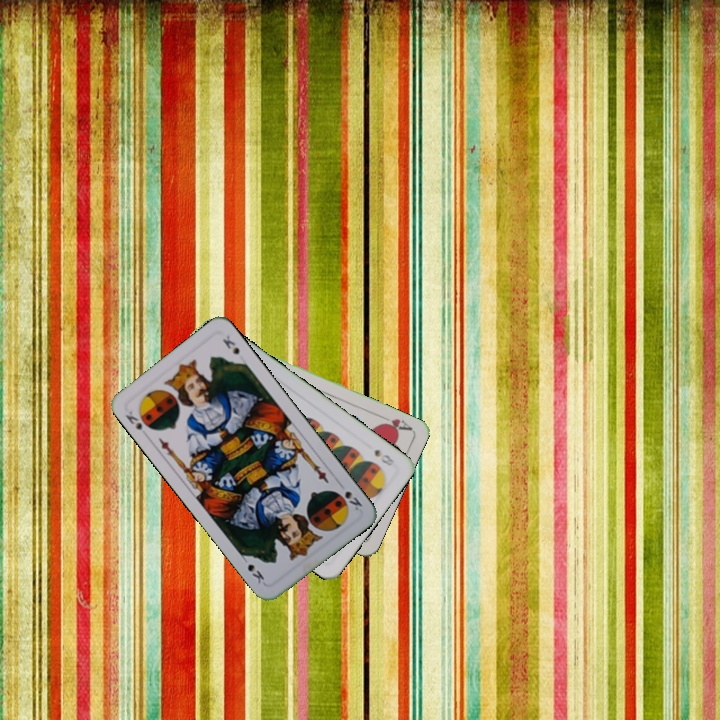HA: (376, 411, 415, 434)
S8: (370, 445, 397, 468)
SK: (341, 487, 365, 513), (121, 407, 145, 433)
